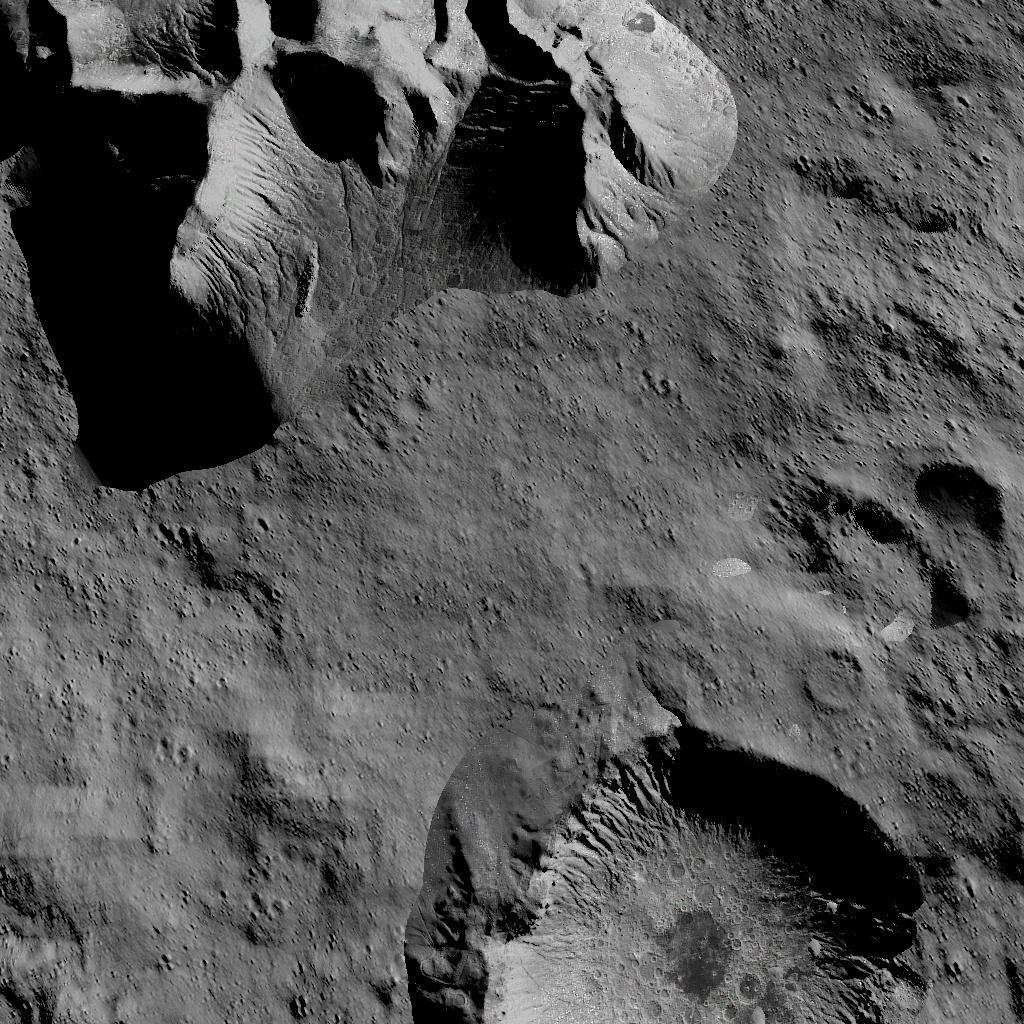Boulders: (2, 0, 732, 488)
Crater: (430, 702, 940, 1024), (787, 446, 1012, 654)
Plan surface: (9, 518, 395, 967), (755, 6, 1024, 390), (421, 508, 766, 676)
